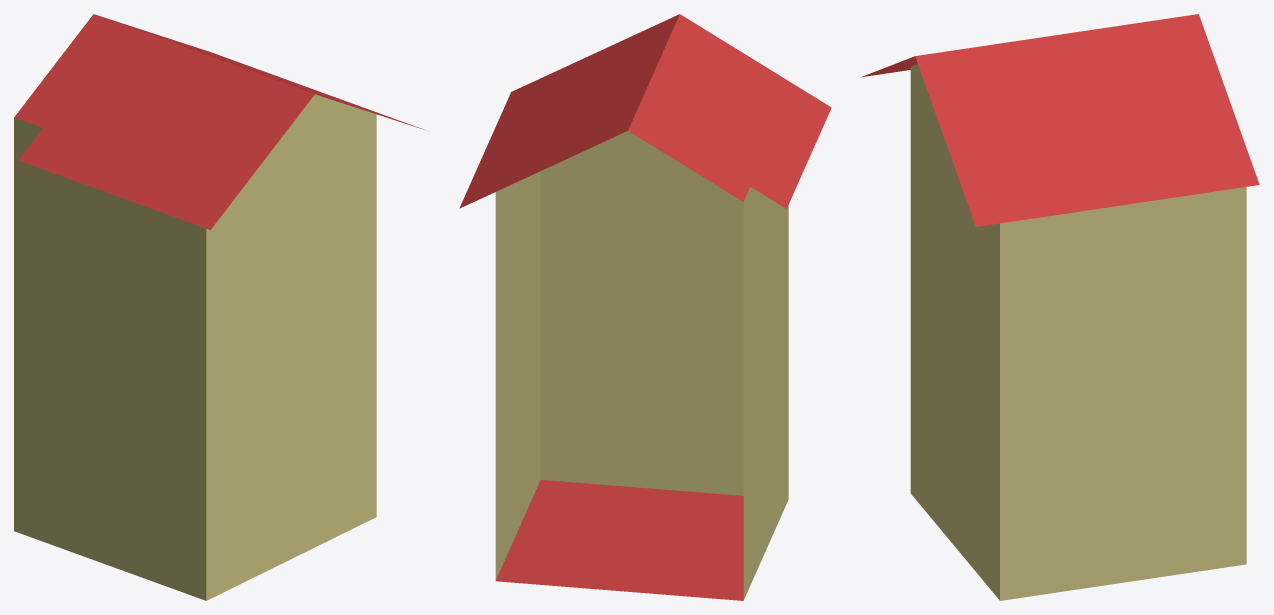
The picture shows the model from 3 angles, left to right: view 1: azimuth 30°, elevation 25°; view 2: azimuth 150°, elevation 25°; view 3: azimuth 270°, elevation 25°; orthographic projection. The views are drawn at different scales.
Size of the model in its own units: 7.89 by 7.58 by 10.32.
